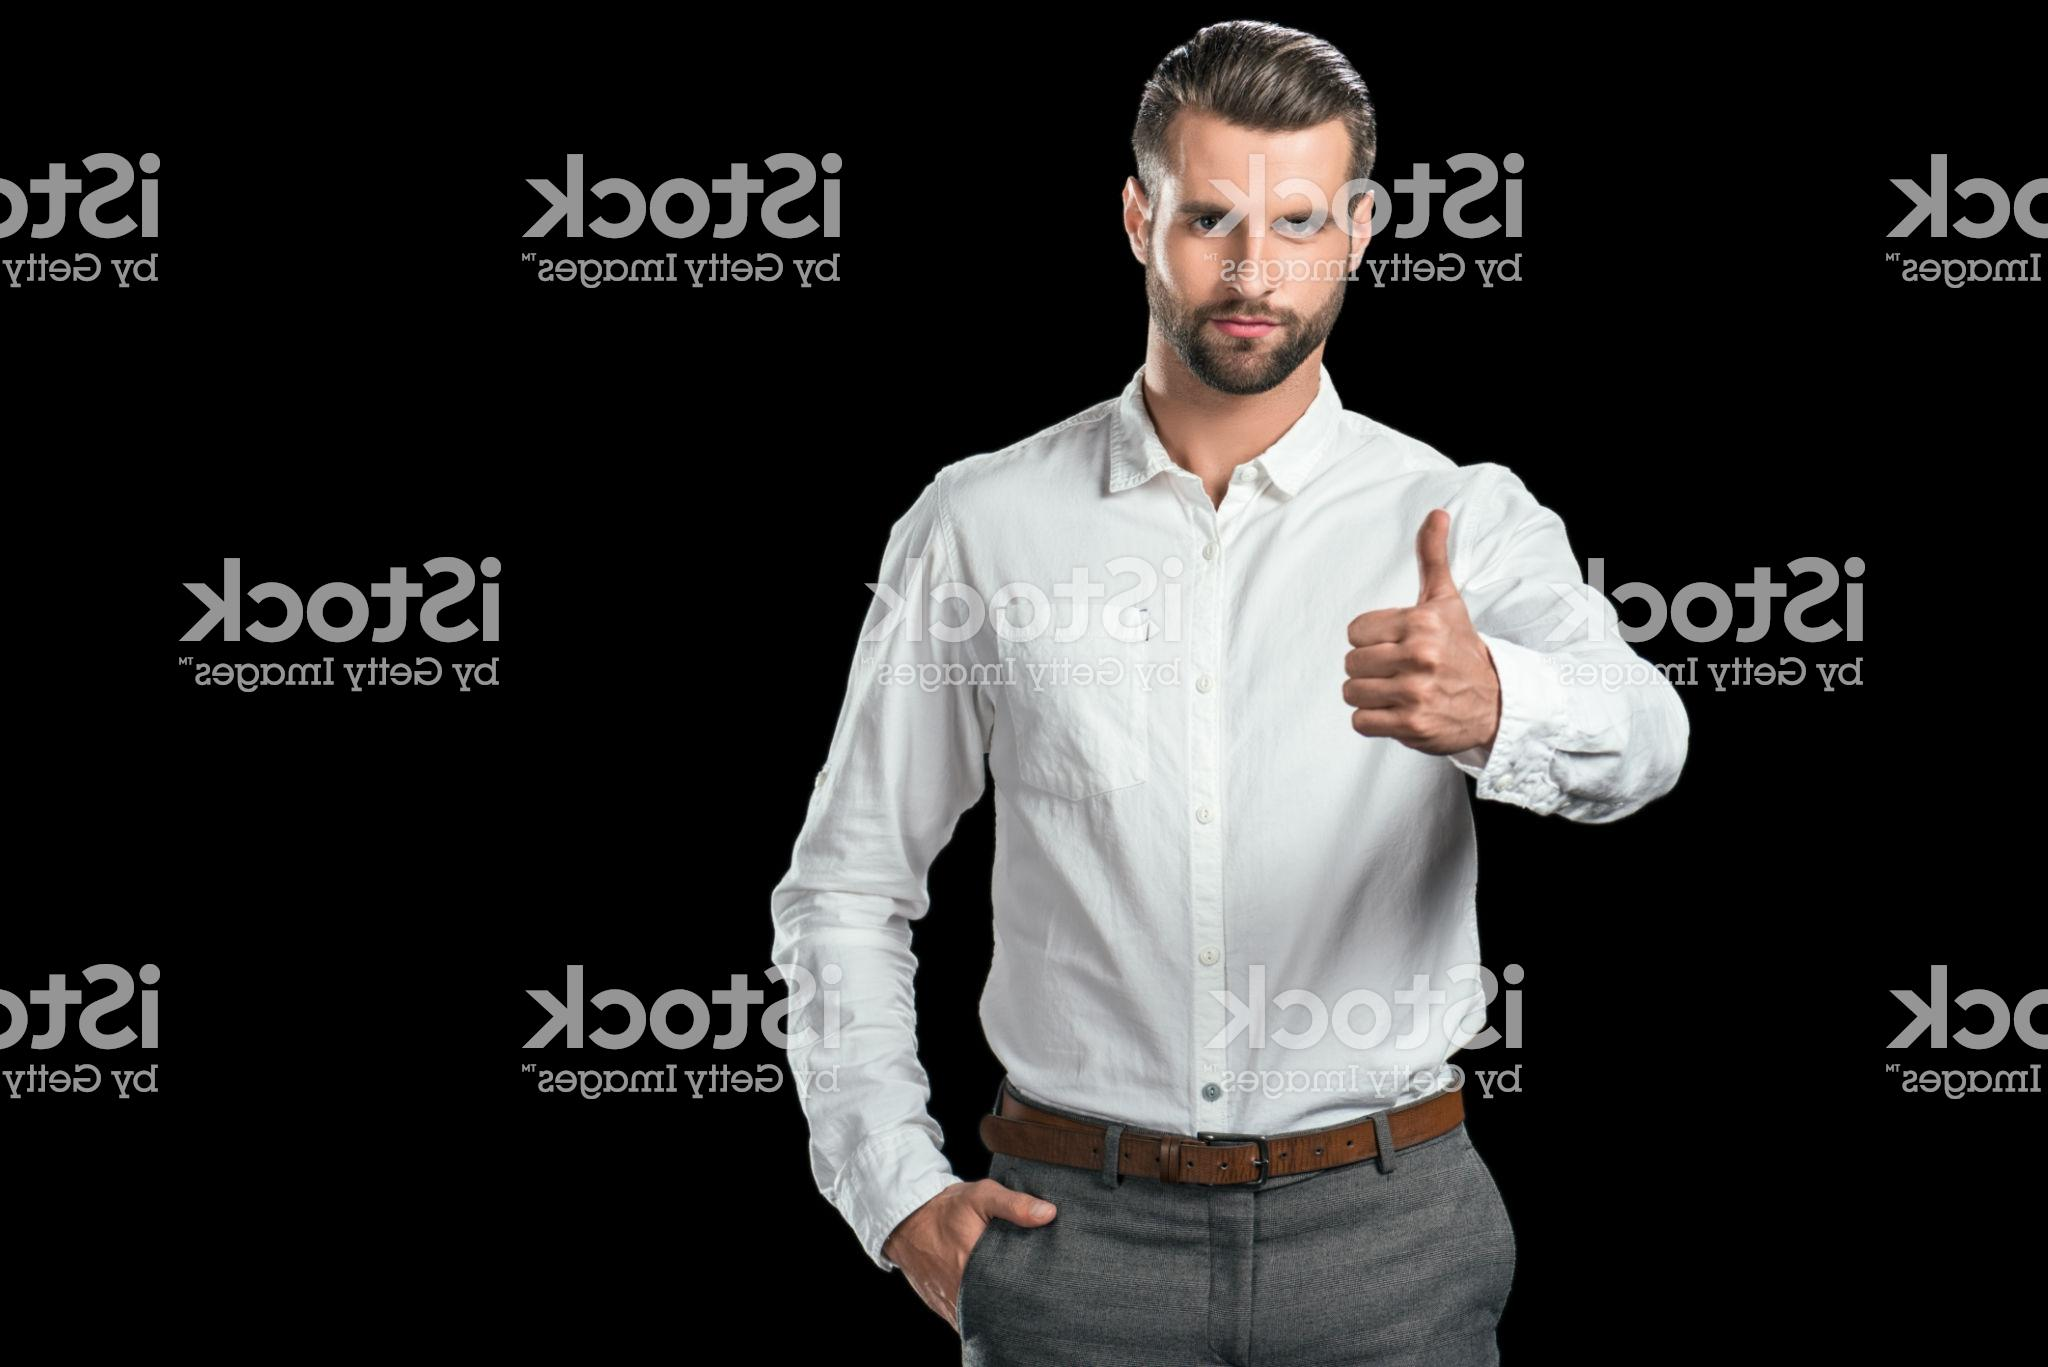thumbsup: (1337, 505, 1481, 752)
